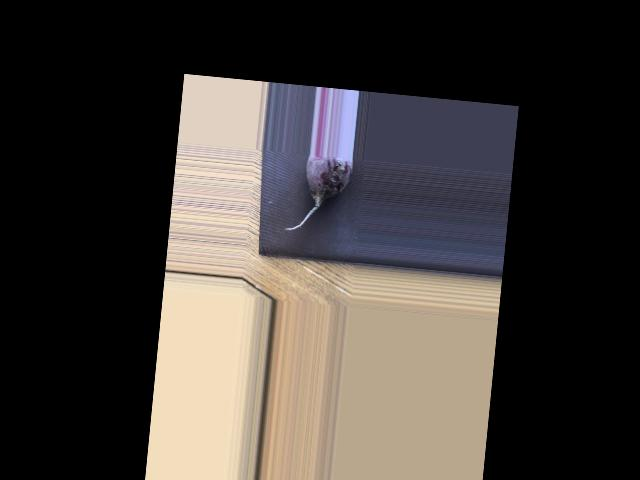beet: (285, 153, 353, 236)
